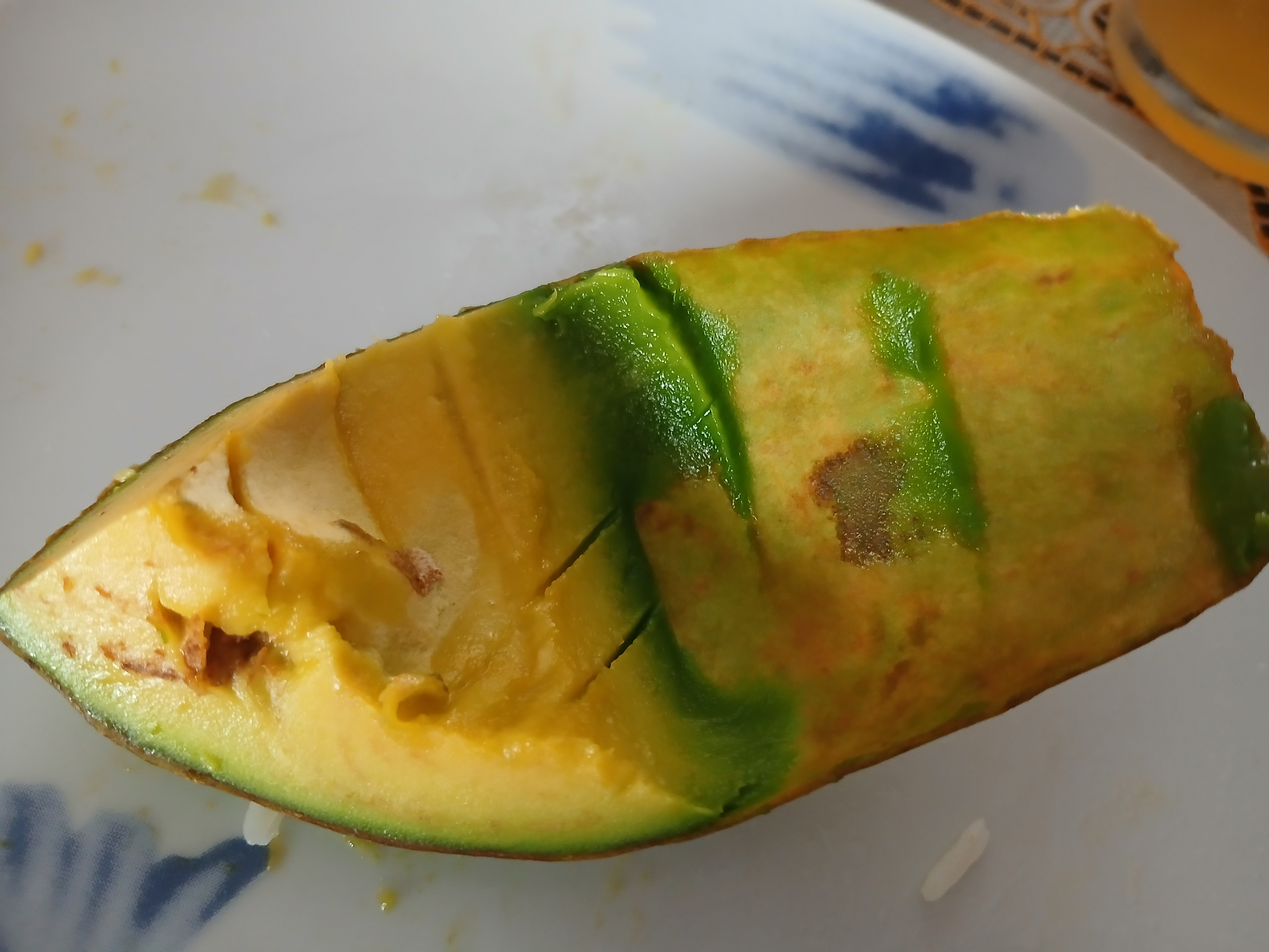Organico: (7, 202, 1269, 862)
